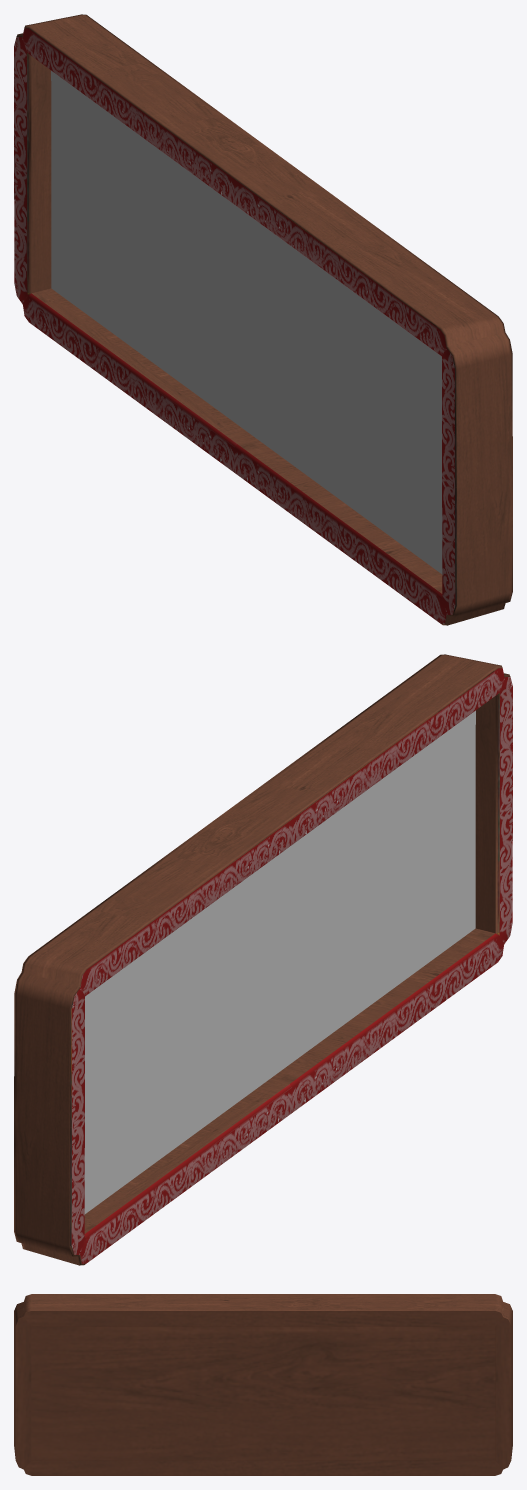
Rendered from SM_Stela05B.fbx.
3 views of the same model, one above another, from view 1: azimuth 30°, elevation 25°; view 2: azimuth 150°, elevation 25°; view 3: azimuth 270°, elevation 25° (orthographic). The views are drawn at different scales.
Visible parts, largest first — view 1: SM_Stela05B; view 2: SM_Stela05B; view 3: SM_Stela05B.
Boxes of the visible parts, x1,y1,x2,y2 form: SM_Stela05B: [14, 14, 512, 625]; SM_Stela05B: [14, 654, 512, 1265]; SM_Stela05B: [14, 1294, 512, 1475].
Size of the model in its own units: 7.33 by 96 by 35.59.
